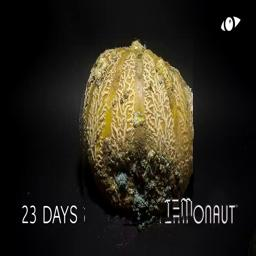Melon Rotten: (76, 39, 193, 227)
